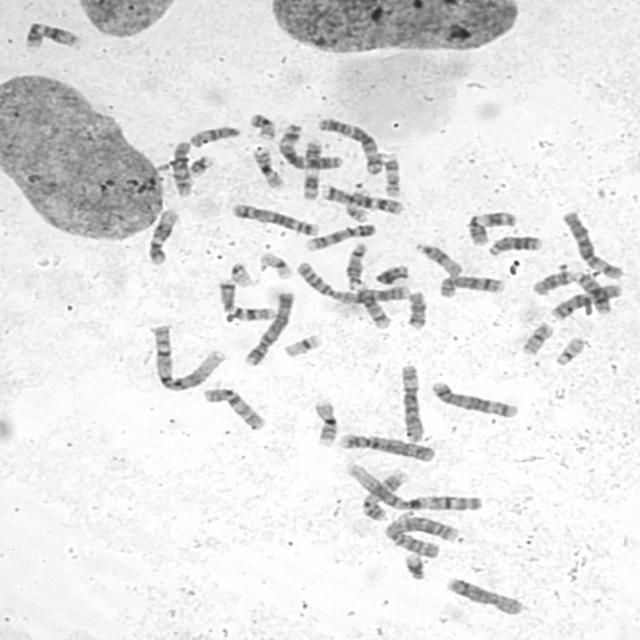A1: (342, 459, 483, 513), (148, 320, 228, 392)
A2: (292, 257, 413, 306), (380, 512, 463, 560)
A3: (314, 113, 384, 176), (274, 120, 346, 170)
B4: (239, 287, 296, 368), (334, 430, 438, 463)
B5: (428, 378, 520, 419), (227, 200, 321, 237)
C10: (200, 383, 268, 432), (168, 138, 194, 198)
C11: (464, 207, 518, 246), (298, 136, 324, 202)
C12: (144, 204, 181, 266), (21, 19, 83, 50)
C6: (560, 207, 626, 279), (397, 362, 428, 444)
C7: (316, 180, 405, 216), (215, 274, 278, 322)
C8: (443, 573, 526, 616), (435, 272, 506, 300)
C9: (359, 468, 410, 522), (301, 219, 378, 252)
D13: (570, 269, 613, 315), (484, 232, 545, 258)
D14: (351, 280, 394, 330), (342, 238, 370, 290)
D15: (411, 238, 464, 278), (186, 122, 243, 148)
E16: (248, 143, 287, 191), (310, 396, 340, 448)
E17: (380, 148, 404, 199), (342, 185, 373, 224)
E18: (529, 267, 575, 296), (403, 287, 429, 330)
F19: (256, 248, 295, 281), (280, 331, 324, 358)
F20: (518, 319, 555, 357), (245, 109, 278, 141)
G21: (400, 548, 428, 582), (185, 151, 217, 177)
G22: (552, 333, 588, 367), (227, 259, 254, 288)
X: (548, 280, 624, 322)
Y: (372, 261, 412, 286)
